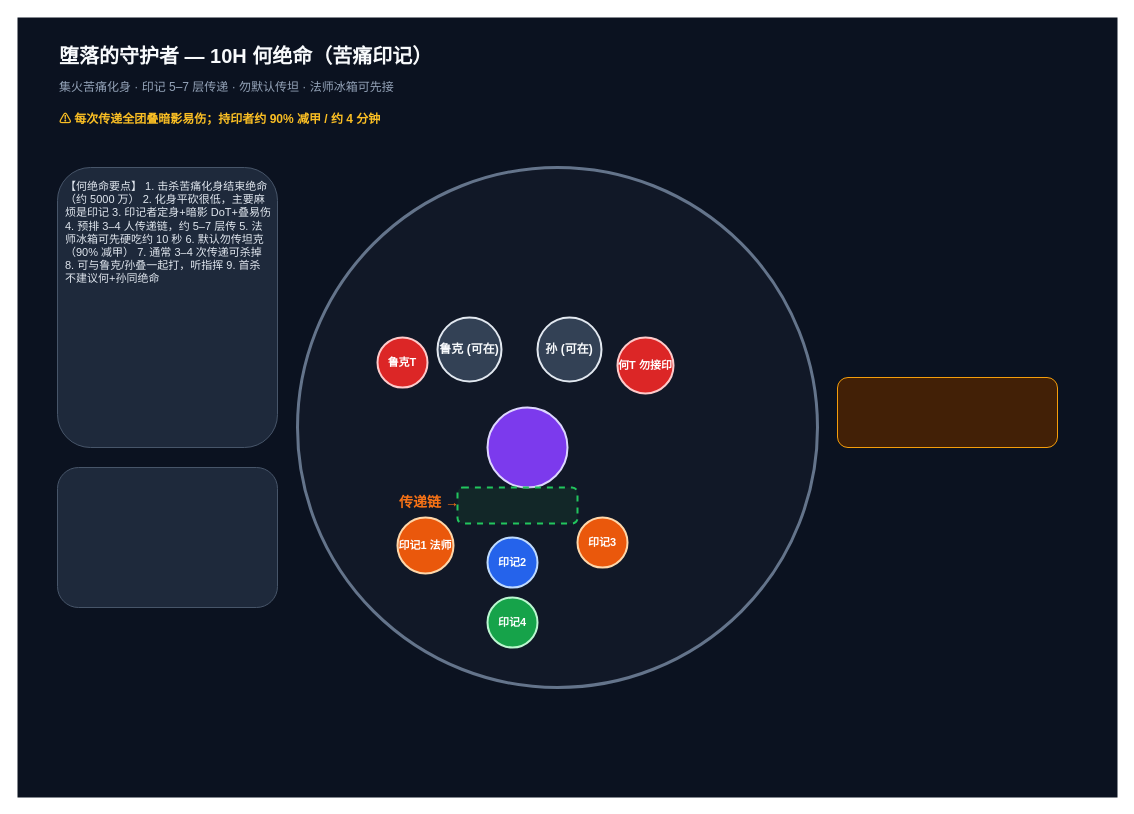
This 1134x814 diagram has some shape labels left out. Each missing label, with the centre of its shape:
"【传递示例】 法师(冰箱) → 指定DPS → 指定DPS → … 约 5–7 层开减伤再传 禁止无脑来回丢" goes at pixel 167 537.
"苦痛化身 集火" goes at pixel 527 447.
"近战/远程 打化身" goes at pixel 517 505.
"额外动作按钮传递 宏：/tar 指定 → EAB" goes at pixel 947 412.
